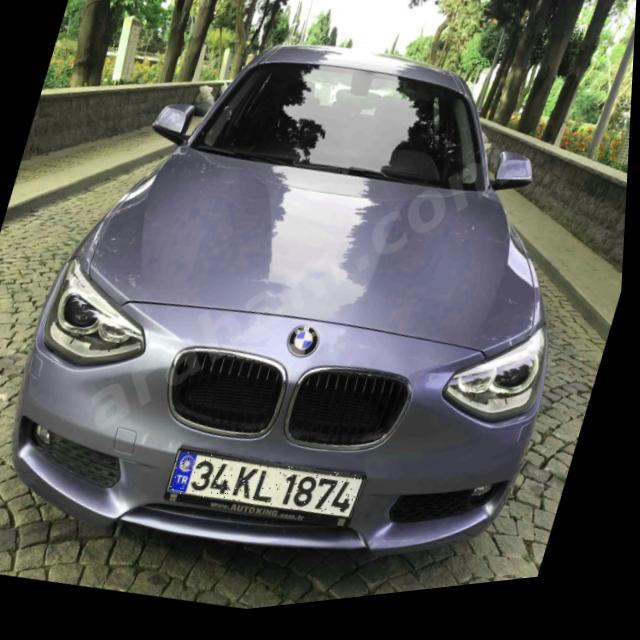license_plate: (170, 438, 370, 542)
